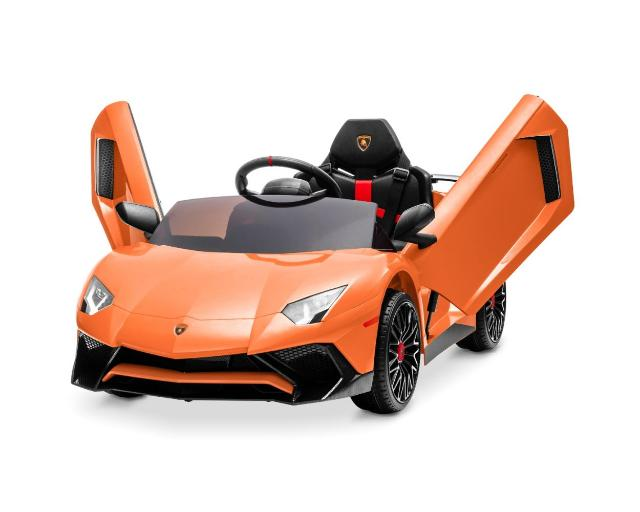lamborghini: (71, 93, 575, 413)
